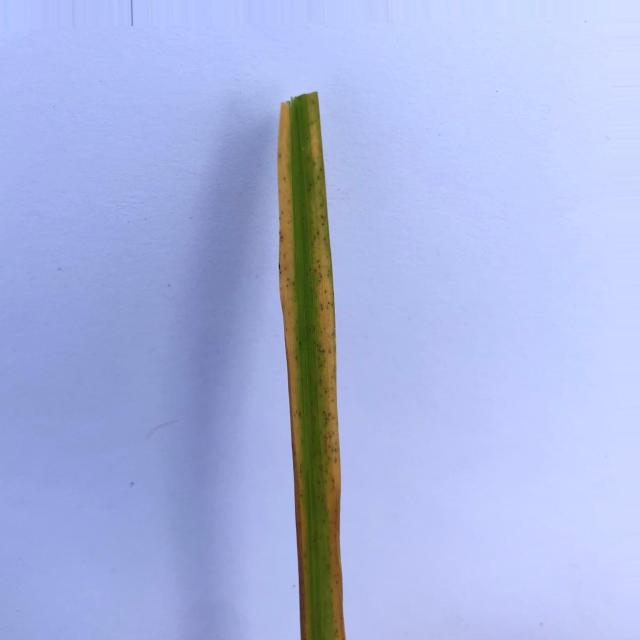Rice Tungro: (277, 92, 345, 639)
